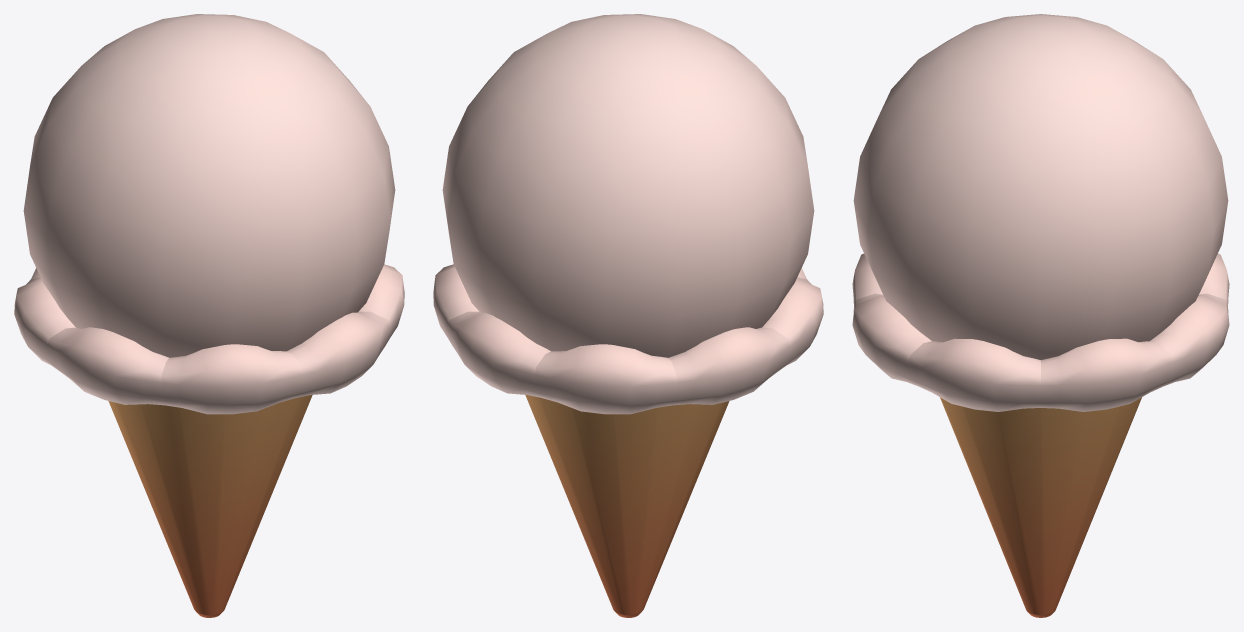
File: Icecream_V1_00.fbx
The picture shows the model from 3 angles, left to right: view 1: azimuth 30°, elevation 25°; view 2: azimuth 150°, elevation 25°; view 3: azimuth 270°, elevation 25°; orthographic projection.
Visible parts, largest first — view 1: Icecream_V1_00; view 2: Icecream_V1_00; view 3: Icecream_V1_00.
Boxes of the visible parts, <box> form: Icecream_V1_00: <box>14,14,404,617</box>; Icecream_V1_00: <box>433,14,823,617</box>; Icecream_V1_00: <box>852,14,1229,617</box>.
Size of the model in its own units: 31.28 by 53.47 by 31.28.
